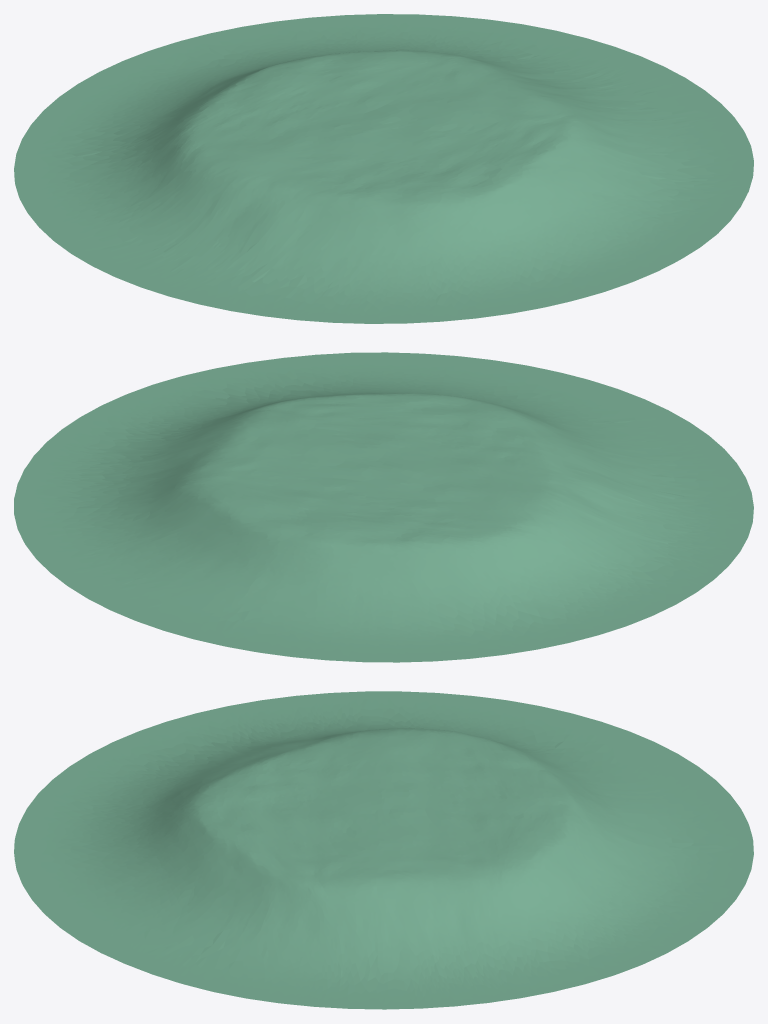
Rendered from island_circular_C_B.fbx.
3 views of the same model, one above another, from view 1: azimuth 30°, elevation 25°; view 2: azimuth 150°, elevation 25°; view 3: azimuth 270°, elevation 25° (orthographic).
Visible parts, largest first — view 1: island_circular_C_B; view 2: island_circular_C_B; view 3: island_circular_C_B.
Part boxes in pixels (left/top/right/bottom): island_circular_C_B: left=14, top=14, right=753, bottom=323; island_circular_C_B: left=14, top=352, right=753, bottom=662; island_circular_C_B: left=14, top=691, right=753, bottom=1009.
Size of the model in its own units: 29772 by 1871 by 29271.
